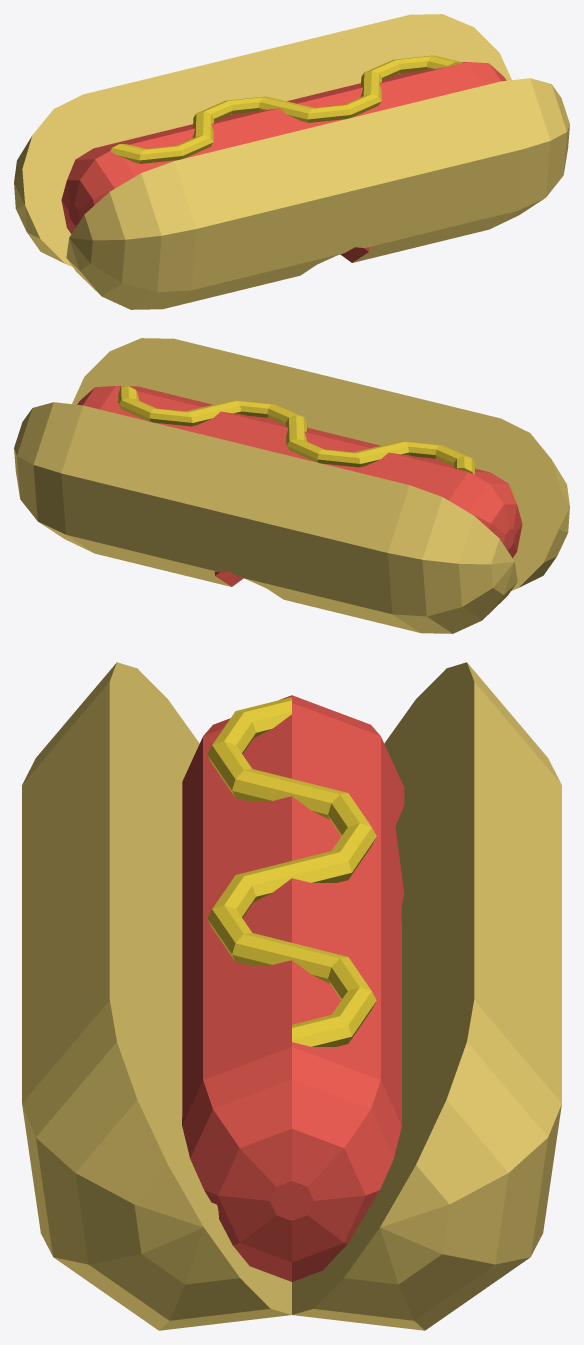
The model's file is Hotdog.fbx.
3 renders of one model, top to bottom at view 1: azimuth 30°, elevation 25°; view 2: azimuth 150°, elevation 25°; view 3: azimuth 270°, elevation 25°, orthographic. The views are drawn at different scales.
Parts seen in each view (by area): view 1: Hotdog; view 2: Hotdog; view 3: Hotdog.
Boxes of the visible parts, x1,y1,x2,y2 form: Hotdog: [14, 14, 569, 309]; Hotdog: [14, 338, 569, 633]; Hotdog: [22, 662, 561, 1330].
Size of the model in its own units: 90 by 27.48 by 42.98.
